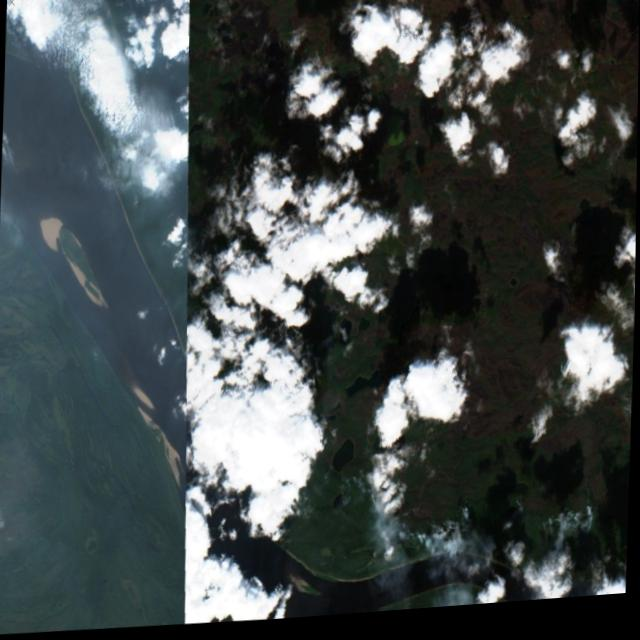fire: (346, 466, 478, 570), (251, 303, 362, 373), (511, 491, 598, 549), (187, 211, 240, 283)
